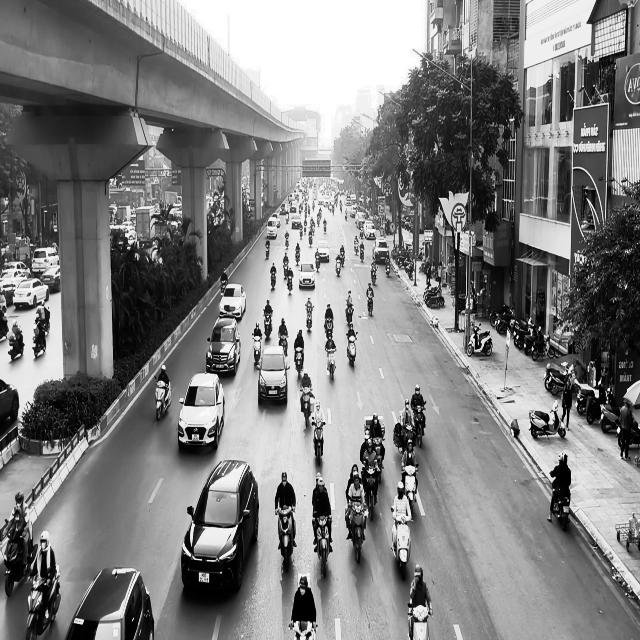car: (181, 458, 260, 592), (64, 566, 154, 639), (178, 372, 225, 451), (206, 314, 241, 376), (258, 345, 290, 403), (219, 283, 247, 320), (0, 377, 20, 422), (299, 261, 316, 288), (316, 240, 330, 262)
motorbike: (26, 564, 61, 640), (3, 530, 37, 597), (391, 506, 414, 580), (529, 400, 566, 439), (275, 505, 296, 572), (347, 501, 368, 564), (313, 513, 332, 577), (362, 462, 381, 521), (551, 478, 571, 530), (407, 603, 434, 639), (467, 322, 493, 357), (402, 463, 419, 515), (154, 374, 172, 421), (312, 418, 326, 466), (413, 401, 427, 446), (288, 620, 318, 639), (301, 386, 313, 427), (32, 324, 47, 356), (347, 330, 358, 366), (253, 334, 263, 368), (326, 347, 336, 380), (294, 346, 304, 378), (264, 309, 273, 337), (305, 304, 314, 331), (279, 334, 289, 357), (346, 302, 354, 326), (366, 292, 374, 315), (286, 270, 294, 293), (370, 265, 378, 284), (270, 270, 277, 290), (385, 256, 391, 276), (336, 255, 342, 275)
